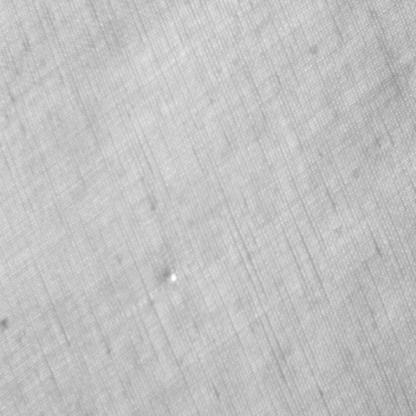hole: (168, 269, 178, 284)
